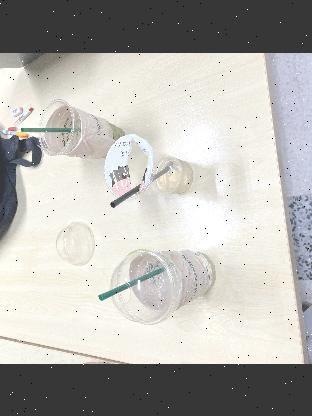Others: (115, 247, 218, 321), (98, 133, 200, 203), (104, 243, 182, 327), (36, 98, 126, 160), (98, 256, 170, 306), (98, 166, 172, 212), (42, 213, 100, 267), (22, 121, 80, 137)
